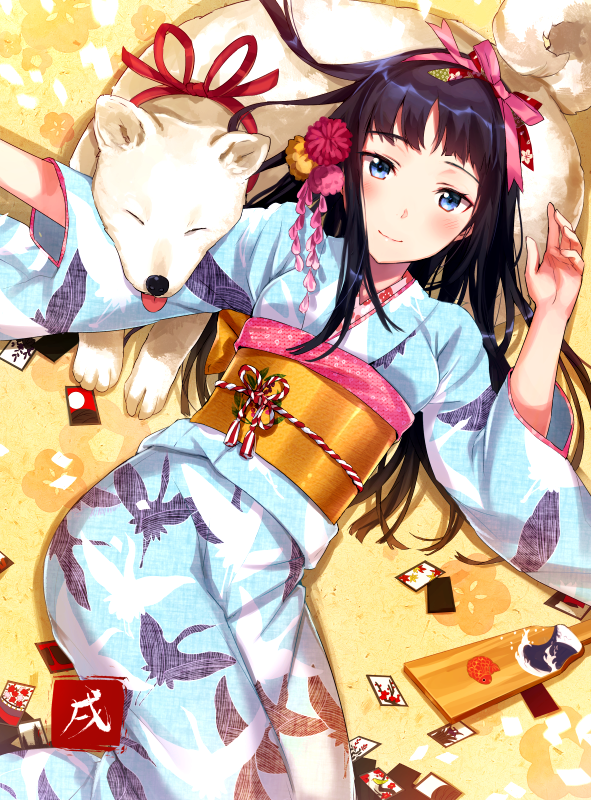纸片人正脸: (329, 55, 519, 273)
